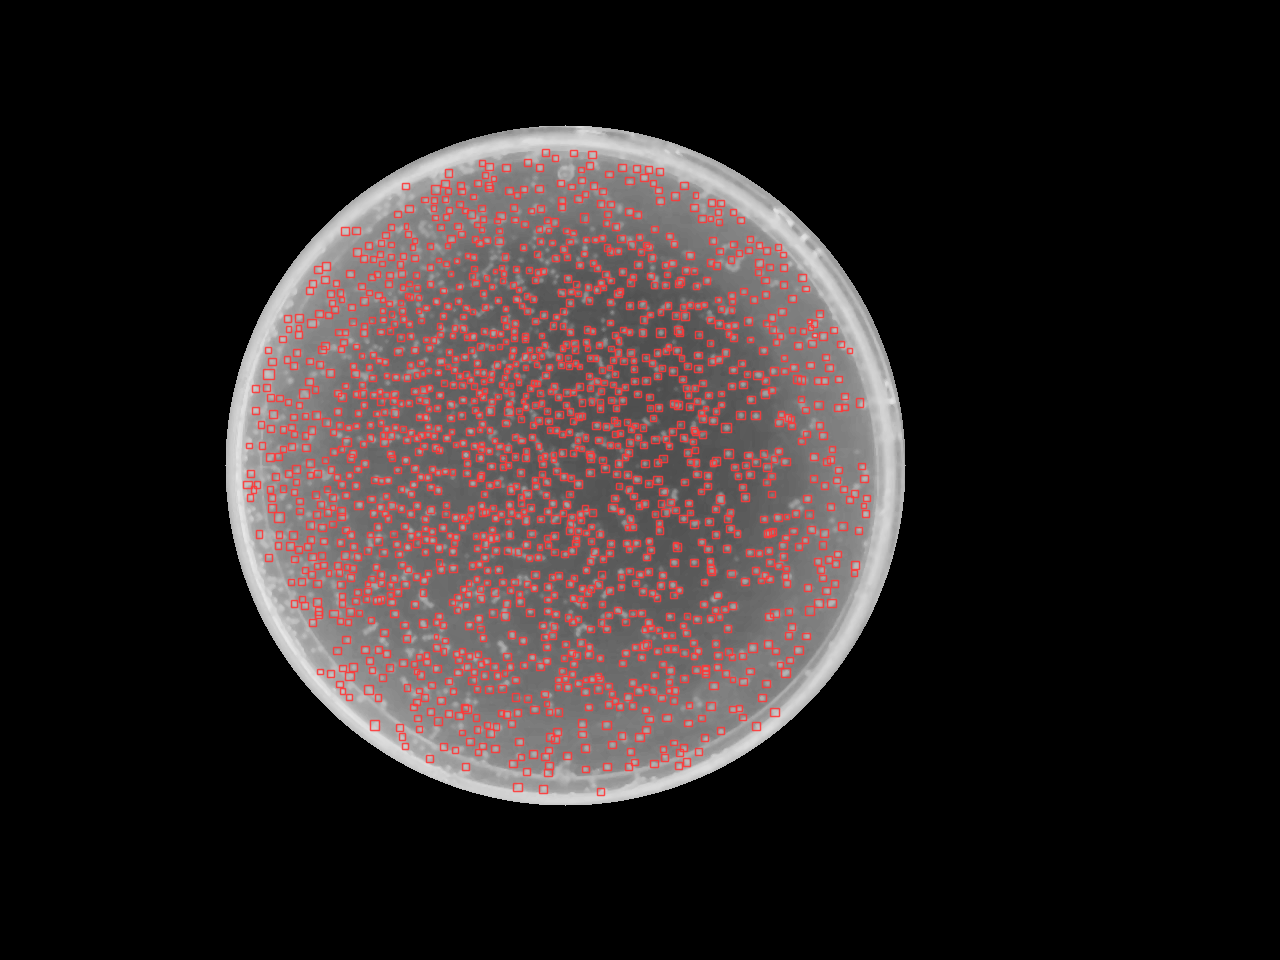bacteria: (263, 368, 274, 378), (274, 512, 284, 522), (369, 719, 378, 729), (720, 422, 730, 431), (299, 389, 309, 398), (364, 684, 373, 693), (805, 606, 814, 615), (656, 327, 665, 336), (748, 642, 757, 651), (724, 449, 733, 458), (430, 185, 439, 194), (781, 668, 790, 677), (336, 506, 344, 515), (633, 687, 642, 695), (769, 609, 778, 617), (345, 672, 354, 680), (461, 705, 470, 713), (341, 438, 350, 446), (736, 411, 745, 419), (306, 318, 315, 326), (634, 732, 643, 740), (353, 500, 362, 508), (793, 645, 802, 653), (750, 411, 759, 419), (760, 389, 768, 398), (837, 522, 846, 530), (601, 720, 610, 728), (513, 783, 522, 791), (580, 212, 588, 221), (705, 702, 714, 710), (769, 708, 778, 716), (753, 371, 763, 378), (640, 642, 648, 650), (358, 390, 366, 398), (523, 489, 531, 497), (712, 456, 720, 464), (796, 375, 804, 383), (643, 639, 651, 647), (500, 612, 508, 620), (292, 465, 300, 473), (266, 453, 274, 461), (716, 495, 724, 503), (268, 504, 276, 512), (488, 609, 496, 617), (546, 732, 554, 740), (764, 639, 772, 647), (312, 597, 321, 605), (288, 531, 296, 539), (312, 411, 321, 419), (467, 210, 475, 218), (792, 375, 800, 383), (740, 491, 748, 499), (325, 369, 333, 377), (321, 261, 329, 269), (804, 510, 812, 518), (672, 543, 680, 551), (348, 663, 356, 671), (338, 393, 346, 401), (516, 597, 524, 605), (306, 459, 314, 467), (528, 750, 536, 758), (690, 519, 698, 527), (685, 251, 693, 259), (419, 618, 427, 626), (671, 192, 679, 200), (680, 312, 688, 320), (763, 462, 771, 470), (755, 258, 763, 266), (770, 366, 778, 374), (593, 684, 601, 692), (668, 366, 676, 374), (433, 717, 441, 725), (851, 561, 859, 569), (485, 729, 493, 737), (820, 528, 828, 536), (580, 744, 588, 752), (586, 452, 593, 461), (504, 407, 513, 414), (242, 480, 251, 487), (855, 398, 862, 407), (608, 504, 617, 511), (550, 515, 559, 522), (329, 610, 338, 617), (781, 457, 790, 464), (653, 476, 662, 483), (661, 714, 670, 721), (813, 401, 822, 408), (529, 705, 538, 712), (813, 599, 822, 606), (496, 210, 505, 217), (709, 682, 718, 689), (613, 289, 621, 296), (670, 399, 678, 406), (677, 276, 684, 284), (307, 426, 314, 434), (765, 529, 773, 536), (340, 227, 348, 234), (468, 676, 476, 683), (706, 564, 713, 572), (346, 453, 353, 461), (508, 760, 516, 767), (336, 580, 344, 587), (268, 410, 276, 417), (544, 769, 552, 776), (380, 628, 388, 635), (321, 417, 329, 425), (306, 521, 314, 528), (372, 597, 380, 604), (627, 240, 634, 248), (373, 537, 381, 545), (490, 588, 497, 596), (540, 753, 548, 760), (659, 454, 667, 461), (674, 326, 682, 333), (432, 664, 440, 671), (632, 210, 640, 217), (744, 317, 752, 324), (551, 735, 559, 742), (506, 485, 513, 493), (390, 408, 397, 416), (624, 693, 632, 700), (680, 181, 688, 188), (539, 785, 547, 792), (312, 580, 321, 587), (670, 645, 678, 652), (568, 547, 577, 554), (511, 693, 518, 701), (659, 487, 667, 494), (336, 513, 344, 520), (660, 508, 668, 515), (752, 459, 760, 466), (690, 204, 698, 211), (527, 529, 535, 536), (752, 722, 760, 729), (808, 339, 816, 346), (404, 204, 412, 211), (379, 549, 387, 556), (285, 542, 293, 549), (554, 708, 561, 716), (503, 652, 511, 659), (522, 516, 529, 524), (674, 401, 682, 408), (295, 314, 303, 321), (531, 570, 539, 577), (332, 646, 340, 653), (464, 622, 472, 629), (436, 697, 444, 704), (616, 234, 624, 241), (692, 666, 700, 673), (860, 474, 868, 481), (341, 636, 349, 643), (727, 570, 735, 577), (490, 663, 498, 670), (728, 601, 736, 608), (393, 348, 401, 355), (434, 543, 441, 551), (390, 610, 398, 617), (725, 525, 733, 532), (563, 751, 571, 758), (485, 407, 493, 414), (608, 741, 616, 748), (632, 475, 640, 482), (584, 651, 592, 658), (640, 459, 648, 466), (680, 649, 688, 656), (380, 439, 388, 446), (692, 615, 700, 622), (618, 163, 626, 170), (680, 675, 688, 682), (466, 427, 474, 434), (651, 435, 659, 442), (666, 612, 674, 619), (739, 381, 747, 388), (588, 151, 596, 158), (694, 364, 702, 371), (746, 549, 754, 556), (351, 369, 359, 376), (360, 297, 368, 305), (690, 559, 698, 566), (670, 559, 678, 566), (308, 552, 316, 559), (586, 469, 594, 476), (592, 421, 600, 428), (747, 396, 755, 403), (834, 402, 842, 409), (400, 580, 408, 587), (703, 517, 712, 524), (573, 480, 581, 488), (352, 225, 360, 232), (495, 236, 503, 243), (810, 453, 818, 460), (455, 712, 463, 719), (672, 346, 680, 353), (759, 346, 767, 353), (774, 513, 782, 520), (765, 559, 773, 566), (633, 261, 641, 268), (302, 444, 310, 451), (641, 376, 649, 383), (779, 541, 787, 548), (525, 609, 533, 616), (679, 514, 687, 521), (790, 363, 798, 370), (555, 411, 563, 418), (714, 652, 722, 659), (447, 565, 456, 572), (666, 667, 674, 674), (600, 465, 608, 472), (746, 471, 754, 478), (819, 432, 827, 439), (624, 208, 632, 215), (821, 586, 829, 593), (650, 760, 658, 767), (764, 612, 772, 619), (794, 342, 802, 349), (715, 320, 723, 327), (498, 685, 506, 692), (268, 358, 276, 365), (340, 551, 348, 558), (536, 663, 544, 670), (656, 195, 664, 202), (740, 577, 748, 584), (819, 332, 827, 339), (484, 685, 492, 692), (826, 599, 835, 606), (603, 762, 611, 769), (578, 719, 586, 726), (552, 727, 560, 734), (807, 525, 815, 532), (580, 687, 588, 694), (641, 726, 649, 733), (346, 608, 354, 615), (352, 248, 360, 255), (515, 738, 523, 745), (360, 645, 368, 652), (491, 745, 499, 752), (739, 678, 747, 685), (466, 738, 474, 745), (544, 762, 552, 769), (824, 363, 833, 370), (777, 307, 785, 314), (304, 378, 312, 385), (803, 495, 811, 502), (346, 270, 354, 277), (797, 273, 805, 280), (535, 184, 543, 191), (757, 693, 765, 700), (501, 163, 509, 170), (484, 163, 492, 170), (761, 679, 769, 686), (504, 186, 512, 193), (625, 177, 634, 184), (395, 723, 402, 730), (550, 218, 557, 225), (769, 528, 776, 535), (502, 711, 509, 718), (309, 279, 316, 286), (335, 421, 342, 428), (594, 580, 601, 587), (670, 687, 677, 694), (822, 457, 829, 464), (583, 589, 590, 596), (462, 762, 469, 769), (461, 703, 468, 710), (478, 508, 485, 515), (522, 768, 529, 775), (406, 532, 413, 539), (419, 385, 426, 392), (295, 507, 302, 514), (309, 619, 316, 626), (426, 754, 433, 761), (707, 567, 714, 574), (386, 663, 393, 670), (598, 570, 605, 577), (626, 279, 633, 286), (251, 384, 258, 391), (329, 493, 336, 500), (298, 577, 305, 584), (762, 376, 769, 383), (649, 687, 656, 694), (589, 508, 596, 515), (426, 505, 433, 512), (271, 472, 278, 479), (675, 328, 682, 335), (625, 447, 632, 454), (457, 181, 464, 188), (374, 522, 381, 529), (503, 444, 510, 451), (265, 553, 272, 560), (293, 349, 300, 356), (655, 168, 662, 175), (639, 315, 646, 322), (414, 447, 421, 454), (674, 762, 681, 769), (477, 595, 484, 602), (586, 450, 593, 457), (251, 406, 258, 413), (481, 553, 488, 560), (677, 419, 684, 427), (417, 671, 424, 678), (633, 165, 640, 172), (326, 670, 333, 677), (482, 507, 489, 514), (387, 502, 394, 509), (597, 786, 604, 793), (397, 333, 404, 340), (522, 453, 529, 460), (398, 270, 405, 277), (402, 634, 409, 641), (267, 493, 274, 500), (266, 393, 273, 400), (674, 279, 681, 286), (311, 490, 318, 497), (682, 758, 689, 765), (377, 595, 384, 602), (306, 286, 313, 293), (477, 343, 484, 350), (663, 645, 670, 652), (290, 361, 297, 368), (323, 508, 330, 515), (338, 480, 345, 487), (675, 748, 682, 755), (301, 601, 308, 608), (641, 499, 648, 506), (577, 639, 584, 646), (558, 289, 565, 296), (287, 442, 294, 449), (262, 384, 269, 391), (377, 570, 384, 577), (707, 358, 714, 365), (679, 744, 686, 751), (554, 571, 561, 578), (349, 450, 356, 457), (502, 600, 509, 607), (313, 510, 321, 517), (437, 358, 444, 365), (709, 236, 716, 243), (469, 333, 476, 340), (346, 531, 353, 538), (506, 501, 513, 508), (318, 523, 326, 530), (294, 546, 301, 553), (431, 444, 438, 451), (566, 526, 573, 533), (334, 562, 341, 569), (266, 424, 273, 431), (307, 570, 314, 577), (543, 507, 550, 514), (654, 459, 661, 466), (403, 543, 410, 550), (321, 342, 328, 349), (682, 267, 689, 274), (669, 427, 676, 434), (330, 447, 337, 454), (713, 262, 720, 269), (506, 531, 513, 538), (419, 577, 426, 584), (645, 567, 652, 574), (626, 439, 633, 446), (294, 330, 301, 337), (818, 541, 825, 548), (671, 312, 678, 319), (669, 580, 676, 587), (481, 671, 488, 678), (647, 253, 654, 260), (714, 355, 721, 362), (350, 543, 357, 550), (562, 501, 569, 508), (549, 499, 556, 506), (543, 582, 550, 589), (438, 523, 445, 530), (614, 459, 621, 466), (463, 663, 470, 670), (645, 619, 652, 626), (763, 529, 770, 536), (562, 387, 569, 394), (779, 552, 786, 559), (779, 264, 786, 271), (514, 709, 521, 716), (474, 615, 481, 622), (523, 159, 530, 166), (410, 600, 417, 607), (537, 204, 544, 211), (785, 607, 792, 614), (285, 469, 292, 476), (782, 580, 789, 587), (730, 333, 737, 340), (683, 447, 690, 454), (725, 648, 732, 655), (349, 565, 356, 572), (361, 459, 368, 466), (694, 330, 701, 337), (523, 694, 530, 701), (723, 514, 730, 521), (439, 742, 446, 749), (346, 573, 353, 580), (626, 349, 633, 356), (349, 318, 356, 325), (550, 532, 557, 539), (449, 547, 456, 554), (558, 202, 565, 209), (517, 469, 524, 476), (625, 762, 632, 769), (437, 565, 444, 572), (686, 402, 693, 409), (606, 586, 613, 593), (491, 547, 498, 554), (566, 580, 573, 587), (246, 469, 253, 476), (590, 547, 597, 554), (854, 526, 861, 533), (354, 552, 361, 559), (382, 649, 389, 656), (815, 309, 822, 316), (313, 265, 321, 272), (385, 279, 392, 286), (539, 310, 546, 317), (563, 684, 570, 691), (359, 328, 366, 335), (558, 447, 565, 454), (413, 502, 420, 509), (503, 547, 510, 554), (434, 487, 441, 494), (402, 457, 409, 464), (283, 315, 290, 322), (462, 450, 469, 457), (850, 490, 857, 497), (803, 583, 810, 590), (413, 573, 420, 580), (363, 547, 370, 554), (526, 504, 533, 511), (642, 354, 649, 361), (542, 477, 549, 484), (377, 397, 384, 404), (586, 162, 593, 169), (821, 376, 828, 383), (485, 181, 492, 188), (377, 504, 384, 511), (475, 453, 482, 460), (815, 421, 822, 428), (722, 544, 729, 551), (618, 732, 625, 739), (507, 720, 514, 727), (623, 471, 630, 478), (638, 588, 645, 595), (394, 589, 401, 596), (605, 700, 612, 707), (679, 432, 686, 439), (767, 313, 774, 320), (494, 565, 501, 572), (655, 526, 662, 533), (386, 432, 393, 439), (762, 247, 769, 254), (563, 274, 570, 281), (321, 276, 328, 283), (274, 453, 281, 460), (507, 630, 514, 637), (711, 531, 718, 538), (711, 640, 718, 647), (706, 259, 713, 266), (406, 510, 413, 517), (618, 397, 625, 404), (334, 408, 341, 415), (410, 465, 417, 472), (611, 223, 618, 230), (787, 622, 794, 629), (722, 349, 729, 356), (814, 558, 821, 565), (654, 402, 661, 409), (825, 555, 833, 562), (549, 631, 556, 638), (559, 472, 566, 479), (421, 693, 428, 700), (707, 199, 714, 206), (751, 567, 758, 574), (374, 645, 381, 652), (759, 450, 766, 457), (359, 255, 366, 262), (618, 268, 625, 275), (558, 195, 565, 202), (717, 727, 724, 734), (370, 510, 377, 517), (626, 301, 633, 308), (694, 747, 701, 754), (351, 480, 358, 487), (638, 328, 645, 335), (433, 643, 440, 650), (723, 625, 730, 632), (657, 582, 664, 589), (458, 412, 465, 419), (542, 148, 549, 155), (661, 753, 668, 760), (645, 480, 652, 487), (645, 166, 652, 173), (510, 204, 517, 211), (390, 574, 397, 581), (626, 747, 633, 754), (779, 280, 786, 287), (326, 289, 333, 296), (315, 309, 323, 316), (318, 345, 326, 352), (303, 543, 310, 550), (814, 376, 821, 383), (535, 163, 542, 170), (817, 565, 824, 572), (785, 631, 792, 638), (765, 547, 772, 554), (447, 234, 455, 241), (365, 241, 372, 248), (330, 306, 337, 313), (769, 325, 776, 332), (697, 214, 705, 221), (791, 510, 798, 517), (762, 291, 769, 298), (629, 679, 636, 686), (440, 179, 447, 187), (846, 495, 853, 502), (518, 637, 525, 644), (706, 615, 713, 622), (794, 543, 801, 550), (862, 510, 869, 517), (426, 708, 433, 715), (722, 670, 729, 677), (810, 474, 817, 481), (821, 480, 828, 487), (597, 199, 604, 206), (670, 697, 677, 704), (629, 702, 636, 709), (615, 702, 622, 709), (378, 673, 385, 680), (573, 195, 581, 202), (590, 181, 597, 188), (702, 666, 709, 674), (314, 606, 321, 614), (445, 168, 452, 176), (400, 622, 408, 628), (744, 451, 752, 457), (637, 301, 645, 307), (703, 546, 712, 552), (708, 417, 716, 424), (694, 352, 702, 358), (640, 174, 648, 181), (788, 528, 796, 534), (453, 669, 461, 675), (399, 658, 407, 665), (604, 171, 612, 177), (487, 463, 495, 469), (387, 598, 395, 604), (367, 496, 375, 502), (728, 367, 736, 373), (692, 470, 700, 476), (644, 715, 652, 721), (801, 633, 809, 639), (788, 294, 796, 301), (775, 417, 783, 424), (484, 184, 492, 190), (805, 361, 813, 367), (578, 730, 586, 736), (746, 667, 754, 673), (760, 277, 768, 283), (684, 720, 692, 726), (574, 412, 581, 419), (259, 442, 265, 449), (481, 541, 488, 547), (328, 465, 334, 472), (334, 390, 341, 396), (566, 520, 572, 527), (551, 622, 557, 629), (386, 271, 393, 277), (534, 417, 541, 424), (276, 531, 282, 538), (646, 625, 653, 631), (508, 508, 514, 515), (374, 292, 381, 298), (253, 480, 259, 487), (653, 349, 659, 356), (603, 211, 610, 217), (645, 242, 652, 248), (510, 579, 517, 585), (473, 714, 479, 721), (284, 355, 290, 362), (336, 568, 342, 575), (436, 559, 442, 566), (642, 684, 649, 690), (414, 715, 421, 721), (584, 325, 590, 332), (317, 501, 324, 508), (399, 732, 405, 739), (811, 319, 817, 326), (462, 370, 468, 377), (569, 619, 577, 625), (290, 600, 296, 607), (370, 477, 377, 483), (657, 499, 663, 506), (290, 556, 297, 562), (640, 423, 646, 430), (604, 243, 610, 250), (256, 530, 262, 537), (841, 403, 848, 409), (480, 532, 486, 539), (573, 652, 580, 659), (588, 585, 594, 592), (314, 469, 321, 476), (514, 547, 520, 554), (602, 423, 608, 430), (480, 369, 486, 376), (418, 432, 425, 438), (669, 259, 676, 265), (636, 502, 642, 509), (521, 352, 527, 359), (477, 472, 483, 479), (489, 330, 495, 337), (606, 247, 612, 254), (565, 613, 571, 620), (559, 246, 566, 252), (257, 419, 263, 427), (693, 459, 699, 466), (733, 529, 739, 536), (301, 432, 307, 439), (685, 390, 691, 397), (374, 693, 380, 700), (597, 619, 603, 626), (501, 253, 507, 260), (369, 375, 376, 381), (459, 522, 465, 529), (471, 280, 478, 286), (577, 510, 583, 517), (413, 539, 420, 546), (420, 589, 426, 596), (383, 477, 390, 483), (390, 397, 397, 403), (462, 601, 468, 608), (404, 684, 410, 691), (567, 649, 574, 655), (477, 474, 483, 481), (602, 271, 609, 277), (614, 349, 620, 356), (610, 495, 617, 501), (329, 520, 336, 526), (460, 324, 466, 331), (830, 580, 837, 587), (728, 255, 734, 262), (619, 358, 626, 364), (338, 664, 345, 670), (567, 514, 574, 520), (595, 531, 602, 537), (280, 426, 286, 433), (280, 484, 286, 491), (410, 481, 417, 487), (367, 576, 374, 582), (385, 514, 391, 521), (562, 340, 568, 347), (531, 483, 538, 489), (646, 273, 653, 279), (538, 622, 545, 628), (366, 432, 372, 439), (511, 676, 518, 682), (419, 442, 426, 448), (386, 451, 393, 457), (495, 442, 502, 448), (314, 610, 321, 617), (671, 507, 678, 513), (630, 759, 637, 765), (334, 328, 341, 334), (826, 456, 833, 463), (593, 285, 599, 292), (351, 598, 358, 604), (714, 592, 721, 598), (422, 535, 429, 542), (597, 405, 603, 412), (287, 424, 294, 430), (686, 459, 693, 465), (274, 541, 280, 548), (267, 486, 273, 493), (627, 514, 633, 521), (566, 408, 572, 415), (579, 399, 585, 406), (595, 676, 602, 682), (337, 289, 343, 296), (477, 625, 484, 631), (549, 322, 555, 329), (452, 513, 458, 520), (635, 571, 642, 577), (404, 373, 410, 380), (382, 232, 389, 238), (711, 505, 718, 511), (422, 397, 429, 403), (551, 610, 558, 616), (295, 498, 302, 504), (410, 388, 417, 394), (541, 634, 548, 640), (631, 643, 638, 649), (614, 607, 621, 613), (493, 480, 499, 487), (545, 747, 552, 753), (354, 466, 361, 472), (493, 723, 499, 730), (446, 400, 453, 407), (402, 436, 409, 442), (698, 430, 705, 437), (767, 490, 774, 496), (393, 541, 400, 547), (767, 472, 774, 478), (715, 247, 722, 253), (339, 600, 345, 607), (469, 480, 476, 486), (730, 322, 737, 328), (246, 493, 252, 500), (551, 255, 558, 261), (602, 625, 609, 631), (598, 457, 605, 463), (339, 339, 346, 345), (434, 613, 441, 619), (507, 663, 513, 670), (454, 223, 461, 229), (629, 523, 636, 529), (366, 657, 373, 664), (739, 288, 746, 294), (417, 360, 424, 366), (390, 391, 397, 397), (538, 460, 545, 466), (666, 499, 673, 505), (502, 419, 509, 426), (730, 241, 737, 247), (658, 571, 665, 577), (493, 360, 499, 367), (342, 492, 349, 498), (665, 301, 671, 308), (397, 261, 403, 268), (473, 726, 479, 733), (543, 607, 550, 613), (461, 354, 468, 360), (831, 559, 838, 566), (605, 682, 612, 688), (521, 220, 528, 226), (742, 462, 749, 468), (575, 382, 582, 389), (630, 378, 637, 384), (723, 322, 730, 328), (626, 568, 633, 574), (363, 588, 370, 594), (841, 393, 848, 399), (658, 661, 665, 667), (818, 574, 825, 580), (426, 484, 433, 490), (738, 484, 745, 490), (475, 240, 482, 246), (625, 486, 631, 493), (382, 391, 389, 397), (727, 292, 734, 298), (654, 373, 661, 379), (553, 468, 560, 474), (706, 316, 713, 322), (702, 277, 709, 284), (578, 412, 585, 418), (493, 672, 499, 679), (566, 298, 573, 305), (454, 594, 461, 600), (462, 469, 469, 475), (737, 217, 744, 223), (306, 358, 313, 364), (410, 255, 417, 261), (367, 274, 374, 280), (542, 372, 549, 378), (391, 373, 398, 379), (550, 549, 557, 555), (445, 709, 452, 716), (858, 463, 865, 469), (427, 682, 434, 688), (639, 442, 646, 448), (469, 562, 475, 569), (397, 505, 403, 512), (678, 376, 685, 382), (726, 508, 732, 515), (312, 385, 318, 392), (522, 541, 529, 547), (325, 312, 332, 318), (394, 550, 401, 556), (738, 714, 745, 720), (631, 580, 638, 586), (435, 391, 442, 397), (486, 481, 493, 487), (606, 541, 613, 547), (630, 492, 637, 498), (781, 367, 788, 373), (561, 550, 568, 556), (353, 391, 360, 397), (605, 612, 612, 618), (387, 582, 393, 589), (410, 703, 417, 709), (337, 538, 344, 545), (738, 652, 745, 658), (537, 516, 544, 522), (638, 610, 645, 616), (705, 391, 712, 397), (335, 681, 342, 687), (413, 699, 420, 705), (342, 526, 349, 532), (541, 691, 548, 697), (703, 472, 710, 479), (646, 547, 653, 553), (315, 360, 322, 367), (401, 523, 408, 529), (629, 610, 636, 616), (594, 436, 601, 442), (738, 360, 745, 366), (402, 183, 409, 189), (458, 397, 465, 403), (278, 336, 285, 342), (670, 592, 677, 598), (759, 516, 766, 522), (586, 625, 593, 631), (683, 363, 690, 369), (606, 550, 613, 556), (617, 507, 623, 514), (767, 387, 774, 393), (358, 283, 365, 289), (802, 430, 809, 436), (834, 550, 841, 556), (512, 453, 518, 460), (566, 490, 573, 496), (558, 667, 565, 673), (787, 423, 794, 429), (762, 477, 769, 483), (370, 391, 377, 397), (730, 463, 737, 469), (662, 282, 669, 288), (390, 531, 397, 537), (681, 477, 688, 483), (542, 643, 549, 649), (478, 742, 485, 748), (682, 630, 689, 636), (634, 391, 641, 397), (394, 466, 401, 472), (685, 499, 692, 505), (654, 648, 661, 654), (398, 562, 405, 568), (774, 448, 781, 454), (646, 394, 653, 400), (582, 766, 589, 772), (498, 579, 505, 585), (690, 640, 697, 646), (837, 340, 844, 346), (613, 470, 620, 476), (519, 661, 526, 667), (834, 466, 841, 472), (642, 553, 649, 559), (774, 562, 781, 568), (562, 640, 569, 646), (650, 672, 657, 678), (622, 649, 629, 655), (458, 231, 465, 237), (650, 226, 657, 232), (622, 619, 629, 625), (410, 346, 417, 352), (347, 304, 354, 310), (833, 477, 840, 483), (606, 201, 613, 207), (727, 382, 734, 388), (618, 659, 625, 666), (354, 589, 361, 595), (798, 438, 805, 444), (275, 394, 282, 400), (642, 706, 649, 712), (306, 535, 313, 542), (771, 648, 778, 654), (458, 187, 465, 193), (750, 295, 757, 302), (714, 664, 721, 670), (482, 237, 489, 243), (862, 495, 869, 501), (802, 406, 809, 412), (717, 199, 724, 205), (318, 552, 325, 559), (658, 694, 665, 700), (455, 201, 462, 207), (557, 179, 564, 186), (826, 502, 833, 509), (666, 232, 673, 238), (745, 247, 752, 253), (766, 264, 773, 270), (766, 576, 773, 582), (729, 706, 736, 712), (839, 486, 846, 492), (721, 606, 728, 612), (585, 703, 592, 709), (822, 354, 829, 360), (654, 187, 661, 193), (834, 376, 841, 382), (598, 187, 605, 193), (437, 223, 444, 229), (519, 186, 526, 192), (701, 733, 708, 740), (394, 211, 401, 217), (478, 205, 485, 211), (474, 179, 481, 186), (525, 555, 531, 561), (709, 460, 715, 466), (464, 334, 470, 340), (462, 517, 468, 523), (581, 505, 587, 511), (531, 379, 537, 385), (477, 661, 483, 667), (345, 694, 351, 700), (389, 454, 395, 460), (468, 505, 474, 511), (299, 595, 305, 601), (617, 574, 623, 580), (560, 307, 566, 313), (427, 241, 433, 247), (469, 273, 475, 279), (377, 240, 383, 246), (597, 399, 603, 405), (589, 259, 595, 265), (628, 425, 634, 431), (401, 742, 407, 748), (477, 445, 483, 451), (391, 321, 397, 327), (369, 667, 375, 673), (692, 429, 698, 435), (502, 322, 508, 328), (377, 477, 383, 483), (368, 616, 374, 622), (344, 564, 350, 570), (265, 346, 271, 352), (613, 419, 619, 426), (477, 501, 483, 507), (851, 570, 857, 576), (641, 625, 647, 631), (549, 574, 555, 580), (479, 160, 485, 166), (369, 316, 375, 322), (736, 705, 742, 711), (594, 673, 600, 679), (517, 492, 523, 498), (416, 397, 422, 403), (429, 466, 435, 472), (509, 282, 515, 288), (534, 268, 540, 274), (716, 218, 722, 224), (436, 447, 442, 453), (321, 457, 327, 463), (532, 277, 538, 283), (480, 289, 486, 295), (440, 622, 446, 628), (617, 288, 623, 294), (493, 534, 499, 541), (612, 430, 618, 436), (476, 561, 482, 567), (577, 595, 583, 601), (540, 268, 546, 274), (616, 483, 622, 489), (339, 592, 345, 598), (512, 319, 518, 325), (329, 429, 335, 435), (467, 376, 473, 382), (532, 402, 538, 408), (337, 445, 343, 451), (406, 294, 412, 301), (621, 454, 627, 460), (521, 333, 527, 339), (421, 516, 427, 522), (492, 514, 498, 520), (565, 355, 571, 361), (290, 488, 296, 494), (517, 499, 523, 505), (476, 390, 482, 396), (476, 412, 482, 418), (464, 460, 470, 466), (501, 316, 507, 322), (405, 321, 411, 327), (453, 534, 459, 541), (612, 331, 618, 337), (589, 676, 595, 682), (597, 280, 603, 286), (280, 445, 286, 451), (468, 346, 474, 352), (406, 361, 412, 367), (637, 249, 643, 255), (417, 474, 423, 480), (513, 192, 519, 198), (381, 409, 387, 415), (405, 565, 411, 571), (596, 342, 602, 348), (581, 601, 587, 607), (421, 549, 427, 555), (452, 355, 458, 361), (617, 430, 623, 436), (524, 307, 530, 313), (456, 373, 462, 379), (524, 580, 530, 586), (553, 427, 559, 433), (512, 433, 518, 439), (521, 336, 527, 342), (533, 250, 539, 256), (472, 406, 478, 412), (691, 427, 697, 433), (473, 369, 479, 375), (682, 385, 688, 391), (360, 440, 366, 446), (736, 250, 742, 256), (341, 328, 347, 334), (460, 586, 466, 592), (489, 505, 495, 511), (362, 595, 368, 601), (513, 483, 519, 489), (522, 448, 528, 454), (564, 253, 570, 259), (467, 513, 473, 519), (693, 397, 699, 403), (651, 282, 657, 288), (625, 546, 631, 552), (593, 378, 599, 384), (433, 619, 439, 625), (516, 591, 522, 597), (536, 226, 542, 232), (500, 463, 506, 469), (614, 388, 620, 394), (387, 592, 393, 598), (514, 511, 520, 517), (777, 661, 783, 667), (532, 318, 538, 324), (597, 388, 603, 394), (337, 618, 343, 624), (662, 436, 668, 442), (477, 586, 483, 592), (400, 425, 406, 431), (381, 358, 387, 364), (301, 567, 307, 573), (471, 442, 477, 448), (392, 424, 398, 430), (599, 235, 605, 241), (481, 490, 487, 496), (513, 265, 519, 271), (484, 567, 490, 573), (545, 541, 551, 547), (662, 348, 668, 354), (537, 390, 543, 396), (699, 601, 706, 607), (761, 571, 767, 577), (333, 474, 339, 480), (656, 520, 662, 526), (797, 395, 803, 401), (516, 408, 522, 414), (587, 558, 593, 564), (756, 241, 762, 247), (488, 535, 494, 542), (405, 231, 411, 237), (481, 328, 487, 334), (680, 304, 686, 310), (474, 748, 480, 754), (575, 262, 582, 268), (452, 747, 458, 753), (613, 405, 619, 411), (425, 474, 431, 480), (554, 684, 560, 690), (653, 595, 659, 601), (397, 486, 403, 492), (465, 591, 471, 597), (570, 340, 577, 346), (534, 553, 540, 559), (413, 435, 419, 441), (658, 364, 664, 370), (425, 345, 431, 351), (559, 430, 565, 436), (692, 385, 698, 391), (479, 421, 485, 427), (511, 328, 517, 334), (562, 402, 568, 408), (551, 382, 557, 388), (585, 373, 591, 379), (473, 685, 479, 691), (539, 470, 545, 476), (377, 250, 383, 256), (717, 306, 723, 312), (517, 754, 523, 760), (471, 382, 477, 388), (500, 454, 506, 460), (473, 360, 479, 366), (569, 595, 575, 601), (399, 307, 405, 313), (789, 327, 795, 333), (599, 367, 605, 373), (585, 297, 591, 304), (425, 385, 431, 391), (634, 433, 640, 439), (480, 394, 486, 400), (544, 408, 550, 414), (661, 262, 667, 268), (609, 357, 615, 363), (593, 265, 599, 271), (612, 697, 618, 703), (561, 676, 567, 682), (449, 598, 455, 604), (505, 462, 511, 468), (785, 414, 791, 421), (551, 592, 557, 598), (608, 397, 614, 403), (388, 223, 394, 229), (443, 303, 450, 309), (684, 613, 690, 619), (429, 528, 435, 534), (669, 631, 675, 637), (373, 564, 379, 570), (777, 410, 783, 416), (453, 607, 459, 613), (411, 661, 417, 667), (451, 367, 457, 373), (693, 283, 699, 289), (531, 354, 537, 360), (529, 433, 535, 439), (442, 435, 449, 441), (577, 517, 583, 523), (453, 651, 459, 657), (692, 447, 698, 453), (413, 285, 419, 291), (557, 361, 563, 367), (442, 511, 449, 517), (459, 382, 465, 388), (587, 355, 593, 361), (387, 328, 393, 334), (707, 340, 713, 346), (747, 235, 753, 241), (382, 492, 388, 498), (771, 455, 777, 461), (485, 448, 491, 454), (511, 334, 517, 340), (525, 267, 531, 273), (585, 283, 591, 289), (288, 579, 294, 585), (715, 208, 721, 214), (471, 669, 477, 675), (507, 586, 513, 592), (777, 333, 783, 339), (565, 429, 571, 435), (520, 242, 526, 248), (579, 585, 585, 591), (400, 253, 406, 259), (431, 433, 437, 439), (629, 274, 635, 280), (414, 531, 420, 537), (474, 651, 480, 657), (606, 442, 612, 448), (359, 382, 365, 388), (587, 385, 593, 391), (440, 313, 446, 319), (373, 271, 379, 277), (566, 328, 572, 334), (565, 363, 571, 369), (631, 366, 637, 372), (698, 379, 705, 385), (537, 238, 543, 244), (569, 450, 575, 456), (356, 610, 362, 616), (324, 486, 330, 492), (697, 409, 703, 415), (695, 303, 701, 309), (582, 339, 588, 345), (290, 430, 296, 436), (481, 304, 487, 310), (434, 424, 440, 430), (497, 511, 503, 517), (713, 408, 719, 414), (775, 242, 781, 248), (552, 154, 558, 160), (556, 354, 562, 360), (609, 691, 615, 697), (369, 256, 375, 262), (686, 301, 692, 307), (554, 394, 560, 400), (416, 726, 422, 732), (484, 721, 490, 727), (649, 589, 655, 595), (473, 544, 479, 550), (614, 247, 620, 253), (570, 661, 577, 667), (313, 562, 319, 568), (307, 472, 313, 478), (661, 631, 667, 637), (441, 379, 447, 385), (542, 492, 548, 498), (480, 634, 486, 640), (676, 586, 682, 592), (433, 405, 439, 411), (405, 400, 411, 406), (400, 316, 406, 322), (413, 271, 419, 277), (649, 360, 655, 366), (585, 643, 591, 649), (698, 414, 705, 421), (691, 268, 697, 274), (460, 439, 466, 445), (545, 709, 551, 715), (599, 601, 605, 607), (568, 475, 574, 481), (449, 382, 455, 388), (509, 346, 515, 352), (526, 385, 532, 391), (408, 490, 414, 496), (427, 280, 433, 286), (830, 327, 837, 333), (695, 648, 701, 654), (617, 583, 623, 589), (600, 556, 606, 562), (636, 233, 642, 239), (365, 364, 371, 370), (735, 472, 741, 478), (377, 580, 383, 586), (544, 217, 550, 223), (574, 679, 581, 685), (545, 364, 551, 370), (296, 402, 302, 408), (560, 510, 566, 516), (382, 425, 388, 431), (408, 430, 414, 436), (361, 402, 367, 408), (431, 196, 437, 202), (612, 370, 618, 376), (319, 562, 326, 568), (529, 421, 535, 427), (293, 477, 299, 483), (762, 319, 768, 325), (665, 442, 671, 448), (671, 241, 677, 247), (445, 678, 452, 684), (345, 472, 351, 478), (569, 670, 575, 676), (646, 405, 652, 411), (465, 652, 471, 658), (406, 333, 412, 339), (301, 412, 307, 418), (570, 150, 577, 156), (602, 220, 608, 226), (285, 399, 291, 405), (660, 745, 666, 751), (703, 483, 710, 489), (621, 384, 627, 390), (531, 585, 537, 591), (685, 702, 691, 708), (497, 709, 503, 715), (652, 511, 658, 517), (582, 567, 588, 573), (781, 355, 787, 361), (665, 679, 671, 685), (337, 346, 343, 352), (469, 253, 475, 259), (656, 627, 662, 633), (388, 253, 394, 259), (361, 322, 367, 328), (755, 268, 761, 274), (781, 573, 787, 579), (459, 648, 465, 654), (427, 264, 433, 270), (345, 619, 351, 625), (800, 328, 806, 334), (425, 570, 431, 576), (756, 550, 762, 556), (354, 409, 360, 415), (472, 235, 478, 241), (707, 558, 713, 564), (712, 607, 718, 613), (369, 352, 375, 358), (716, 613, 722, 619), (366, 421, 372, 427), (481, 172, 487, 178), (729, 208, 735, 214), (744, 370, 750, 376), (333, 280, 339, 286), (449, 688, 455, 694), (691, 652, 697, 658), (649, 179, 655, 186), (349, 363, 355, 369), (773, 339, 779, 345), (581, 190, 587, 196), (441, 196, 447, 202), (480, 216, 486, 222), (698, 715, 705, 721), (702, 670, 709, 676), (440, 648, 445, 655), (615, 337, 620, 344), (251, 486, 256, 493), (454, 657, 461, 663), (572, 345, 578, 352), (588, 397, 593, 404), (543, 596, 550, 601), (429, 537, 436, 543), (518, 437, 525, 442), (583, 432, 588, 439), (622, 541, 629, 546), (482, 658, 489, 664), (542, 658, 549, 664), (545, 418, 552, 424), (786, 657, 793, 663), (290, 414, 297, 419), (633, 541, 640, 546), (566, 239, 573, 244), (782, 535, 789, 541), (422, 658, 429, 664), (527, 654, 534, 659), (377, 329, 384, 334), (638, 654, 645, 659), (567, 184, 574, 189), (421, 196, 428, 201), (578, 177, 585, 183), (670, 740, 677, 745), (802, 286, 809, 291), (510, 217, 517, 222), (483, 274, 488, 280), (366, 532, 372, 537), (445, 187, 451, 193), (379, 432, 384, 438), (245, 443, 251, 448), (533, 380, 539, 385), (608, 346, 614, 351), (782, 566, 788, 571), (571, 541, 578, 546), (788, 415, 794, 421), (450, 469, 455, 475), (376, 358, 382, 363), (459, 514, 464, 520), (559, 322, 564, 328), (523, 292, 528, 298), (538, 454, 543, 460), (423, 652, 428, 658), (600, 284, 606, 289), (466, 580, 471, 586), (286, 325, 291, 331), (692, 192, 697, 198), (620, 326, 626, 331), (726, 331, 731, 337), (672, 541, 677, 547), (632, 422, 638, 427), (424, 431, 430, 436), (574, 616, 580, 622), (436, 322, 441, 328), (542, 342, 547, 348), (414, 372, 419, 378), (339, 688, 344, 694), (571, 574, 577, 580), (539, 352, 544, 358), (451, 541, 457, 546), (419, 370, 424, 376), (829, 445, 835, 451), (569, 388, 575, 393), (554, 676, 560, 681), (486, 376, 492, 381), (574, 528, 580, 534), (451, 325, 456, 331), (508, 352, 513, 358), (472, 532, 477, 538), (535, 442, 540, 448), (642, 241, 648, 246), (515, 379, 520, 385), (658, 309, 663, 315), (517, 415, 523, 421), (487, 427, 492, 433), (459, 730, 465, 735), (547, 427, 552, 433), (573, 280, 579, 286), (431, 337, 436, 343), (422, 304, 428, 309), (569, 418, 575, 424), (425, 368, 431, 373), (489, 526, 495, 531), (405, 280, 411, 285), (493, 217, 499, 222), (590, 328, 595, 334), (471, 265, 477, 270), (601, 380, 607, 385), (542, 453, 547, 459), (532, 476, 538, 481), (666, 343, 671, 349), (385, 301, 391, 306), (421, 526, 427, 531), (441, 469, 447, 474), (544, 535, 550, 541), (627, 328, 632, 334), (353, 344, 359, 349), (611, 417, 617, 423), (502, 670, 507, 676), (410, 242, 415, 248), (702, 664, 709, 669), (553, 314, 559, 319), (381, 511, 387, 516), (592, 355, 597, 361), (416, 414, 422, 419), (728, 307, 733, 313), (460, 314, 466, 319), (559, 345, 564, 351), (488, 370, 493, 376), (398, 400, 403, 406), (539, 400, 544, 406), (592, 236, 598, 241), (388, 310, 393, 316), (568, 289, 574, 294), (442, 501, 447, 507), (474, 576, 479, 582), (513, 295, 519, 301), (425, 424, 431, 429), (399, 283, 404, 289), (445, 349, 451, 355), (489, 398, 495, 403), (422, 337, 428, 342), (608, 278, 614, 283), (529, 295, 535, 301), (581, 249, 587, 254), (536, 544, 541, 550), (606, 298, 612, 304), (456, 284, 462, 289), (588, 538, 594, 544), (609, 382, 615, 387), (505, 364, 511, 369), (417, 317, 423, 322), (679, 355, 684, 361), (523, 403, 528, 409), (353, 422, 359, 427), (505, 518, 511, 523), (388, 241, 394, 246), (437, 331, 443, 336), (624, 418, 630, 424), (379, 260, 385, 265), (729, 654, 735, 659), (505, 400, 511, 405), (649, 415, 655, 421), (329, 301, 335, 306), (373, 410, 379, 415), (416, 654, 422, 659), (462, 304, 468, 309), (378, 419, 383, 426), (582, 236, 588, 241), (689, 439, 695, 444), (646, 311, 652, 316), (561, 655, 567, 661), (446, 415, 453, 421), (454, 298, 460, 304), (440, 287, 446, 292), (494, 297, 500, 303), (345, 424, 351, 429), (606, 320, 612, 325), (295, 325, 300, 331), (697, 488, 703, 493), (582, 530, 588, 535), (680, 623, 686, 628), (664, 271, 670, 276), (588, 523, 594, 528), (464, 252, 469, 258), (433, 298, 439, 304), (801, 537, 807, 543), (569, 230, 575, 235), (686, 509, 692, 514), (416, 688, 422, 693), (434, 370, 440, 375), (717, 401, 723, 406), (717, 391, 723, 396), (326, 570, 331, 576), (549, 239, 555, 244), (645, 538, 651, 544), (471, 398, 477, 403), (484, 580, 490, 585), (365, 290, 371, 295), (562, 226, 568, 231), (494, 394, 500, 399), (441, 638, 447, 643), (341, 383, 347, 388), (698, 538, 705, 544), (780, 249, 786, 254), (319, 538, 326, 544), (380, 316, 386, 321), (665, 688, 671, 693), (701, 579, 707, 585), (442, 214, 447, 220), (431, 205, 436, 211), (747, 337, 753, 342), (473, 221, 479, 226), (597, 655, 603, 661), (757, 578, 763, 583), (577, 167, 583, 172), (461, 208, 467, 213), (496, 226, 502, 231), (445, 207, 451, 213), (432, 214, 438, 219), (528, 208, 534, 213), (469, 194, 475, 199), (503, 388, 508, 393), (860, 503, 865, 508), (317, 668, 323, 673), (496, 344, 501, 349), (503, 368, 508, 373), (330, 505, 335, 510), (543, 701, 548, 706), (573, 535, 579, 541), (426, 406, 431, 411), (520, 508, 525, 513), (364, 581, 369, 586), (534, 361, 539, 366), (479, 442, 484, 447), (847, 347, 852, 352), (450, 332, 455, 337), (499, 265, 504, 270), (482, 388, 487, 393), (514, 373, 519, 378), (624, 524, 629, 529), (376, 388, 381, 393), (546, 226, 551, 231), (515, 286, 520, 291), (470, 308, 475, 313), (535, 346, 540, 351), (423, 414, 428, 419), (488, 344, 493, 349), (730, 676, 735, 681), (404, 293, 409, 298), (579, 445, 584, 450), (512, 361, 517, 366), (551, 451, 556, 456), (414, 668, 419, 673), (415, 308, 420, 313), (500, 271, 505, 276), (547, 388, 552, 393), (527, 346, 532, 351), (447, 428, 453, 433), (383, 373, 388, 378), (523, 364, 528, 369), (411, 237, 416, 242), (415, 295, 420, 301), (442, 260, 447, 265), (359, 353, 364, 358), (519, 302, 524, 307), (807, 325, 812, 330), (584, 346, 589, 351), (499, 278, 504, 283), (807, 318, 812, 323), (476, 427, 481, 432), (491, 437, 496, 442), (607, 364, 612, 369), (452, 442, 457, 447), (701, 301, 707, 306), (502, 374, 507, 379), (479, 226, 484, 231), (480, 379, 485, 384), (498, 331, 503, 336), (503, 305, 508, 310), (435, 470, 440, 475), (508, 391, 513, 396), (615, 443, 620, 448), (583, 676, 588, 681), (499, 382, 504, 387), (503, 338, 508, 343), (574, 290, 580, 295), (539, 332, 544, 337), (488, 284, 493, 289), (631, 358, 636, 363), (707, 215, 712, 220), (783, 514, 788, 519), (523, 392, 528, 397), (379, 308, 384, 313), (507, 383, 512, 388), (454, 257, 459, 262), (403, 223, 407, 229), (575, 436, 580, 442), (572, 360, 577, 366), (729, 299, 735, 304), (715, 296, 721, 301), (444, 364, 449, 369), (434, 634, 438, 639), (703, 405, 708, 410), (577, 364, 581, 369), (444, 242, 449, 247), (551, 458, 556, 462), (435, 257, 440, 261), (339, 296, 344, 301), (447, 533, 452, 538), (447, 271, 452, 276), (398, 299, 403, 304), (379, 296, 384, 301), (811, 332, 816, 336), (491, 175, 496, 179), (521, 398, 525, 402), (493, 269, 497, 273), (574, 446, 578, 450)
